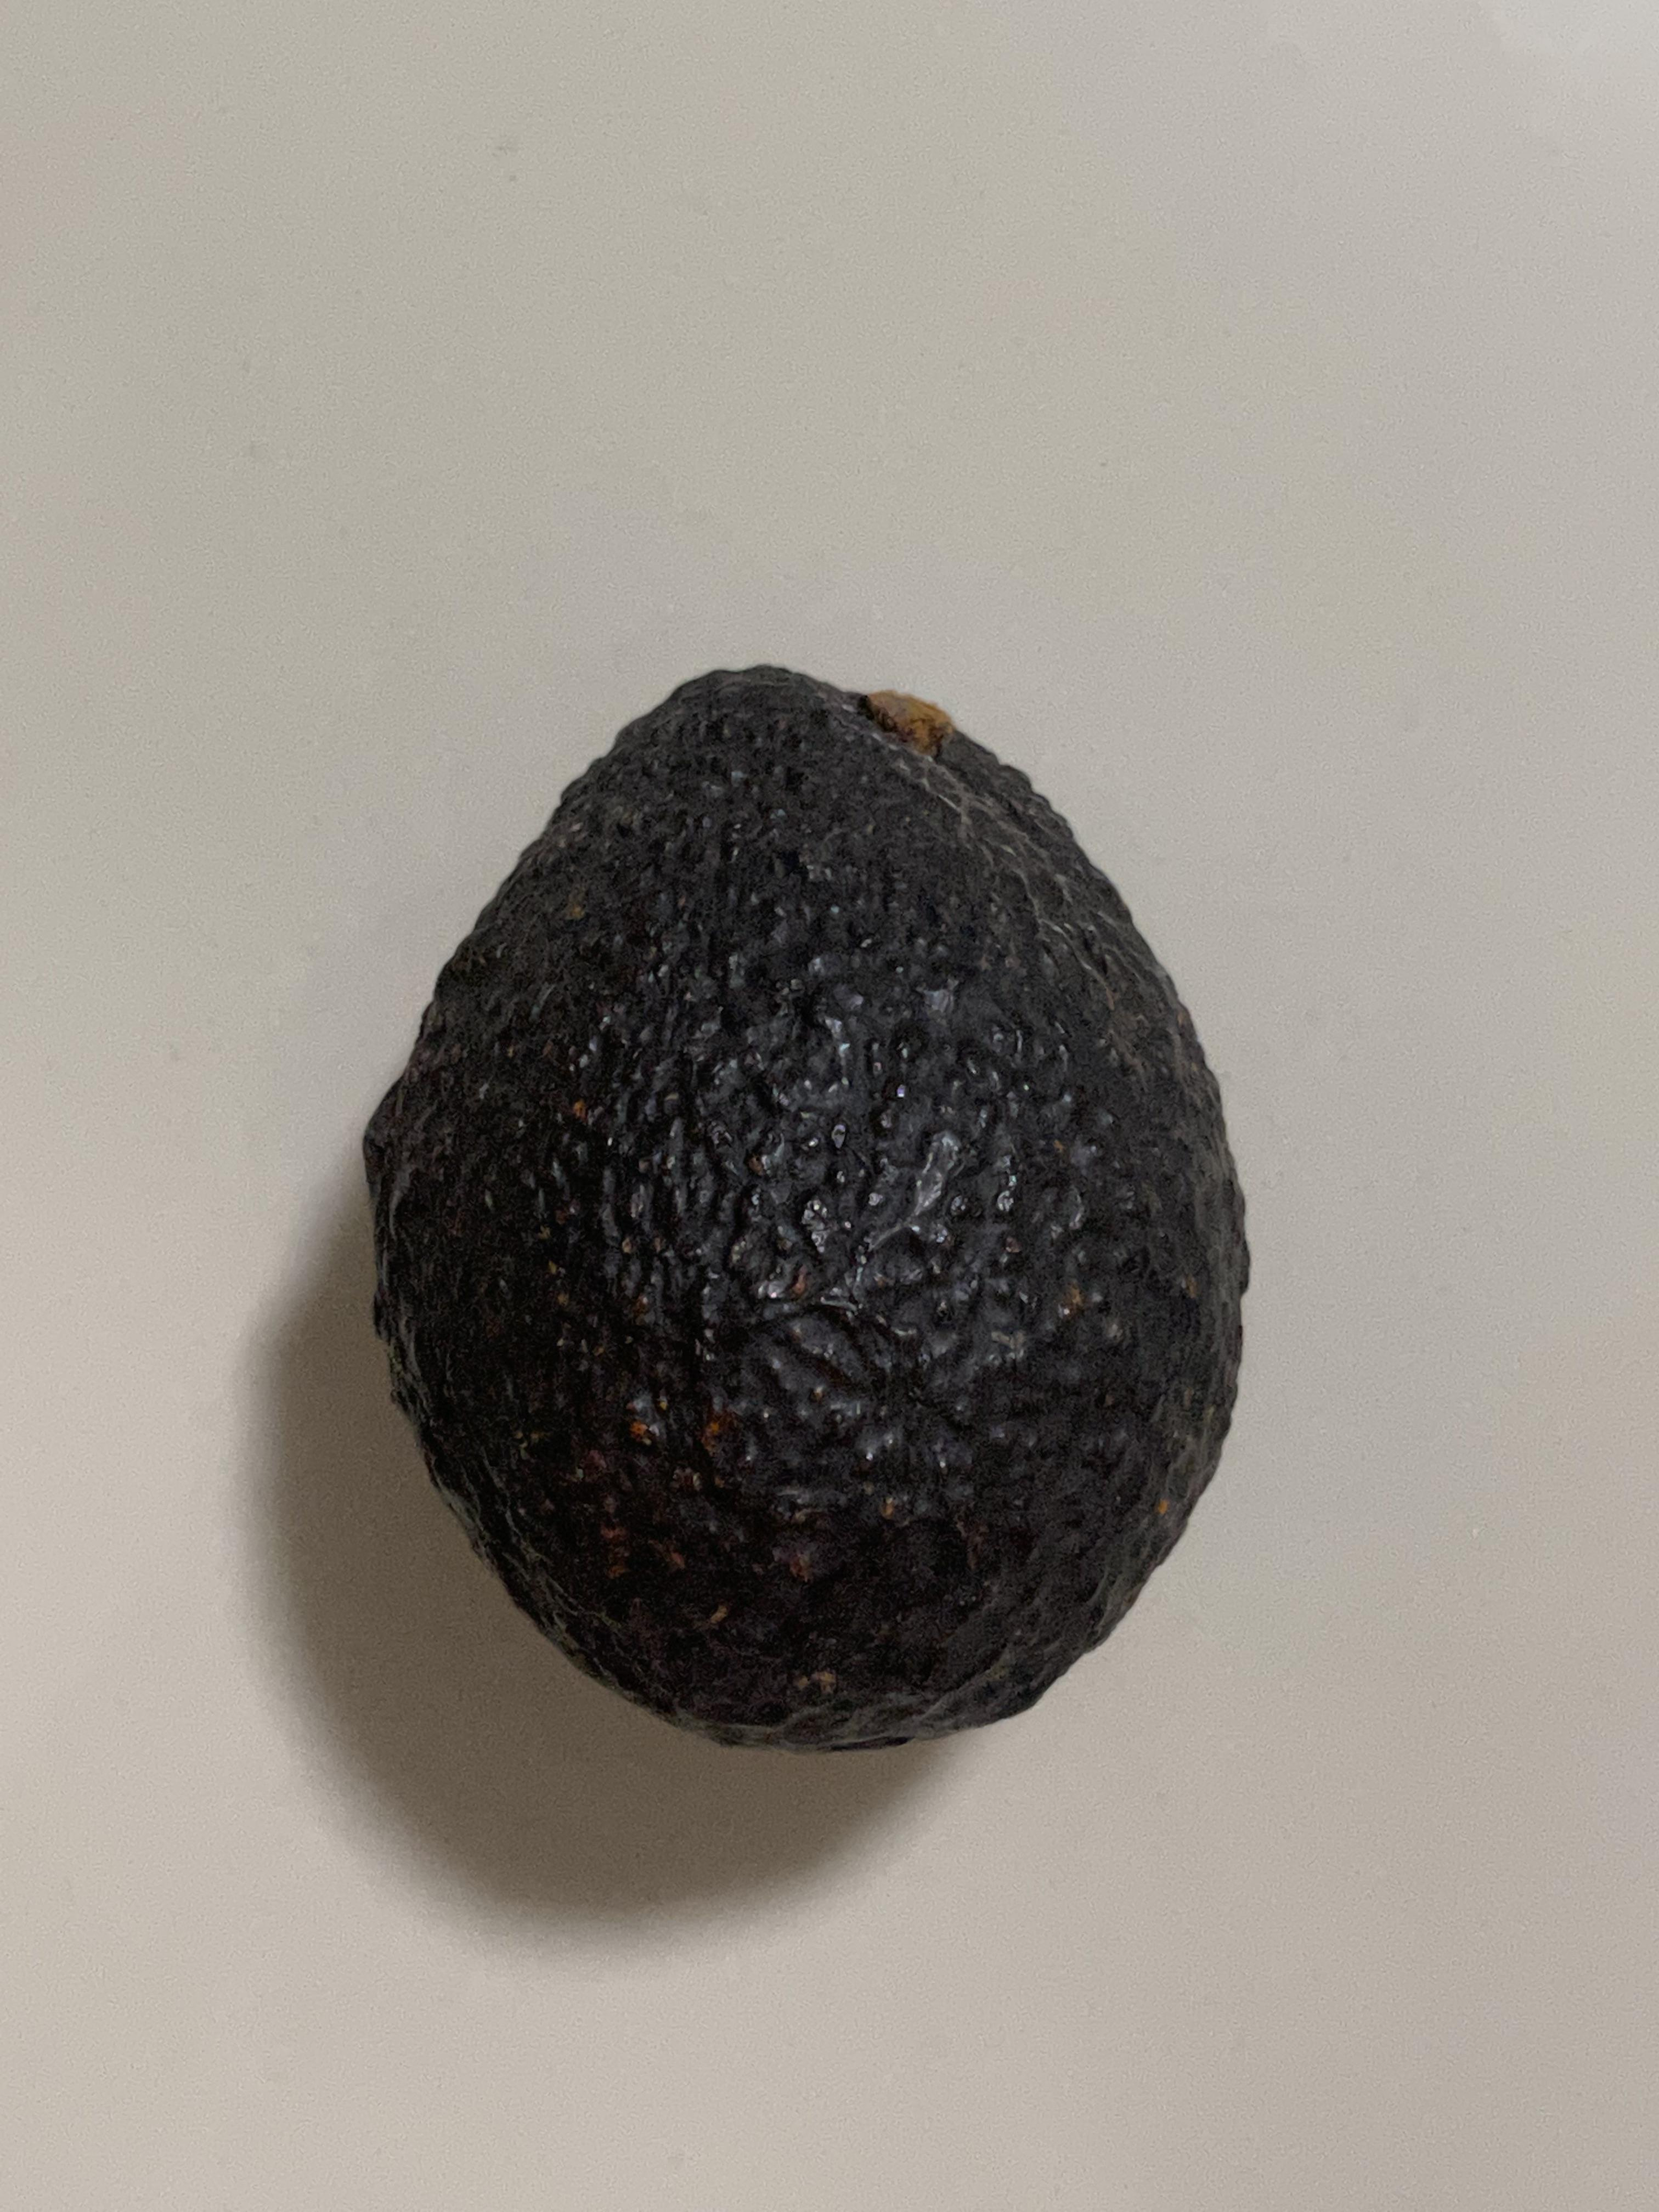Level4: (340, 620, 1288, 1777)
